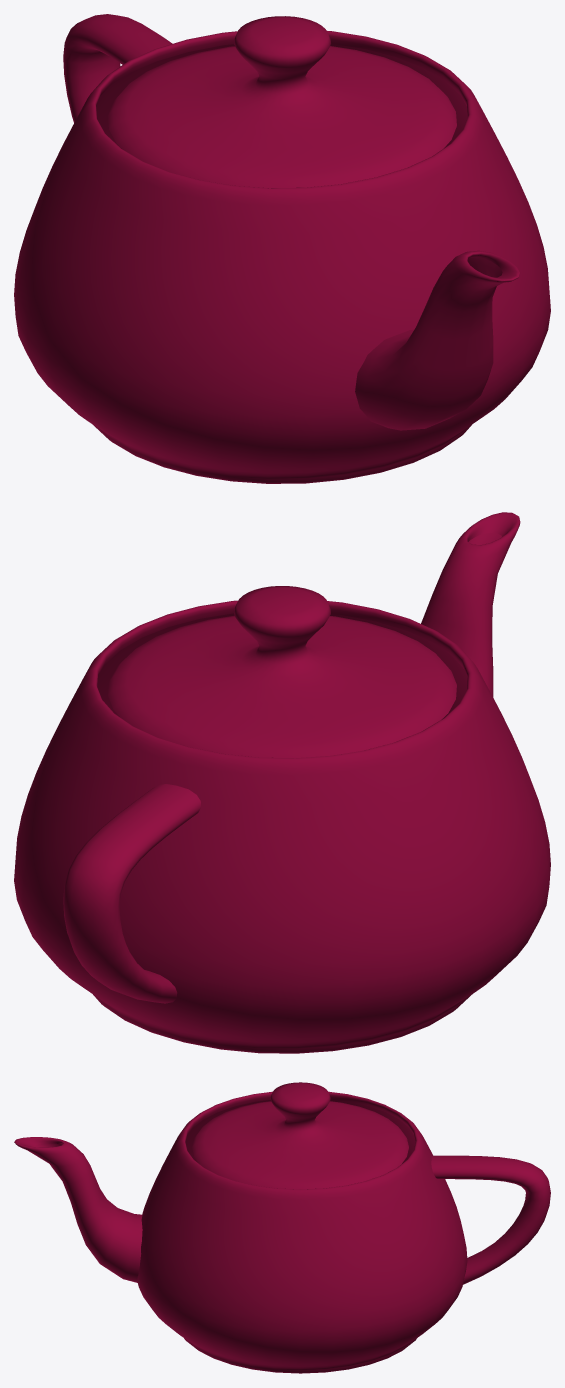
Rendered from teapot.obj.
3 views of the same model, one above another, from view 1: azimuth 30°, elevation 25°; view 2: azimuth 150°, elevation 25°; view 3: azimuth 270°, elevation 25° (orthographic). The views are drawn at different scales.
Visible parts, largest first — view 1: Teapot001; view 2: Teapot001; view 3: Teapot001.
Boxes of the visible parts, bbox=[...] form: Teapot001: bbox=[14, 14, 550, 483]; Teapot001: bbox=[14, 512, 550, 1053]; Teapot001: bbox=[14, 1082, 550, 1373].
Bounding box in the file's own units: 16.71 × 13.16 × 26.88.
